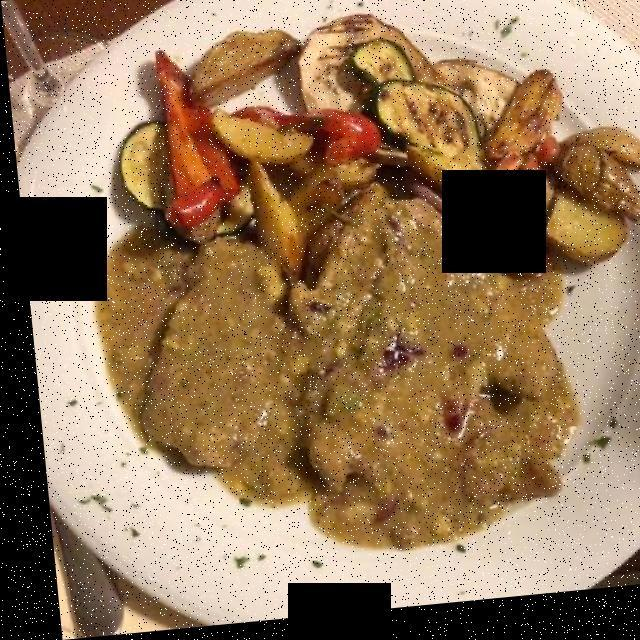bell-pepper: (147, 55, 371, 231)
eggplant: (296, 28, 518, 141)
potatoes: (184, 56, 637, 318)
sauce: (70, 215, 601, 554)
zucchini: (228, 48, 486, 209), (98, 122, 228, 220)
